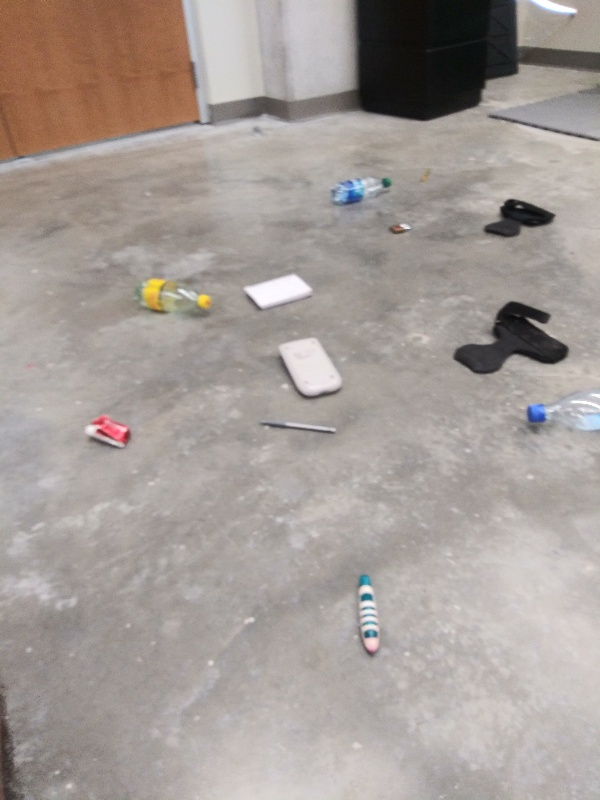bottle: (521, 384, 600, 433), (131, 276, 215, 322), (326, 171, 397, 208)
